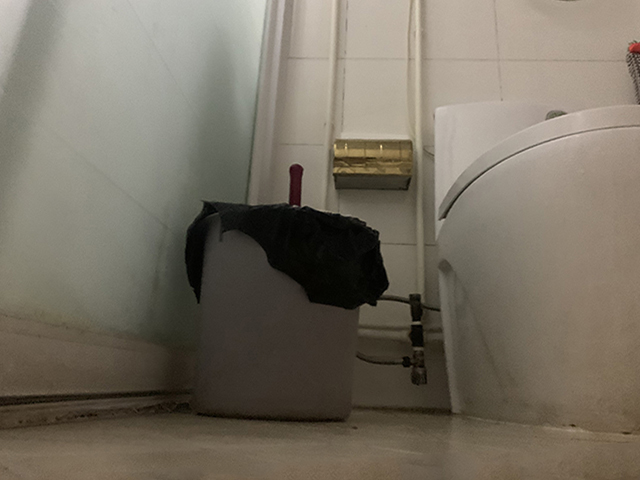closestool: (431, 95, 640, 435)
trashcan: (182, 199, 390, 421)
